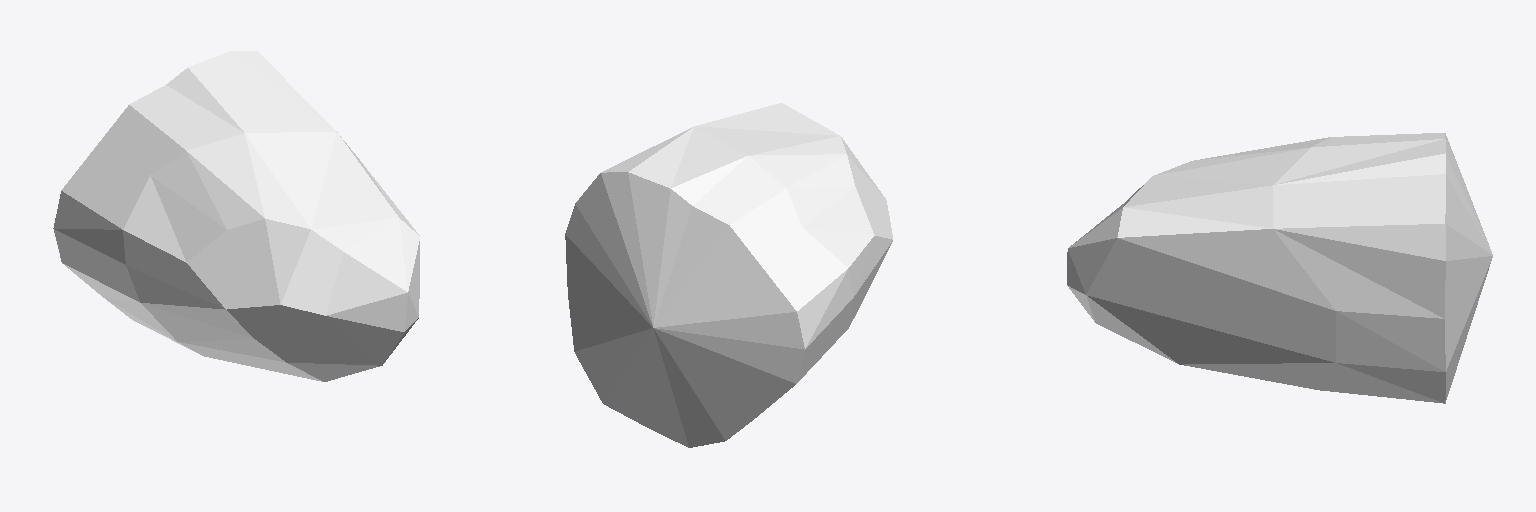
The model's file is Rock0.obj.
The picture shows the model from 3 angles: view 1: azimuth 30°, elevation 25°; view 2: azimuth 150°, elevation 25°; view 3: azimuth 270°, elevation 25°; orthographic projection.
Visible parts, largest first — view 1: 0_0; view 2: 0_0; view 3: 0_0.
Boxes of the visible parts, box(x1,y1,x2,y2) form: 0_0: box(53, 51, 419, 381); 0_0: box(565, 103, 892, 447); 0_0: box(1067, 133, 1492, 403).
Size of the model in its own units: 2.19 by 2.28 by 3.38.